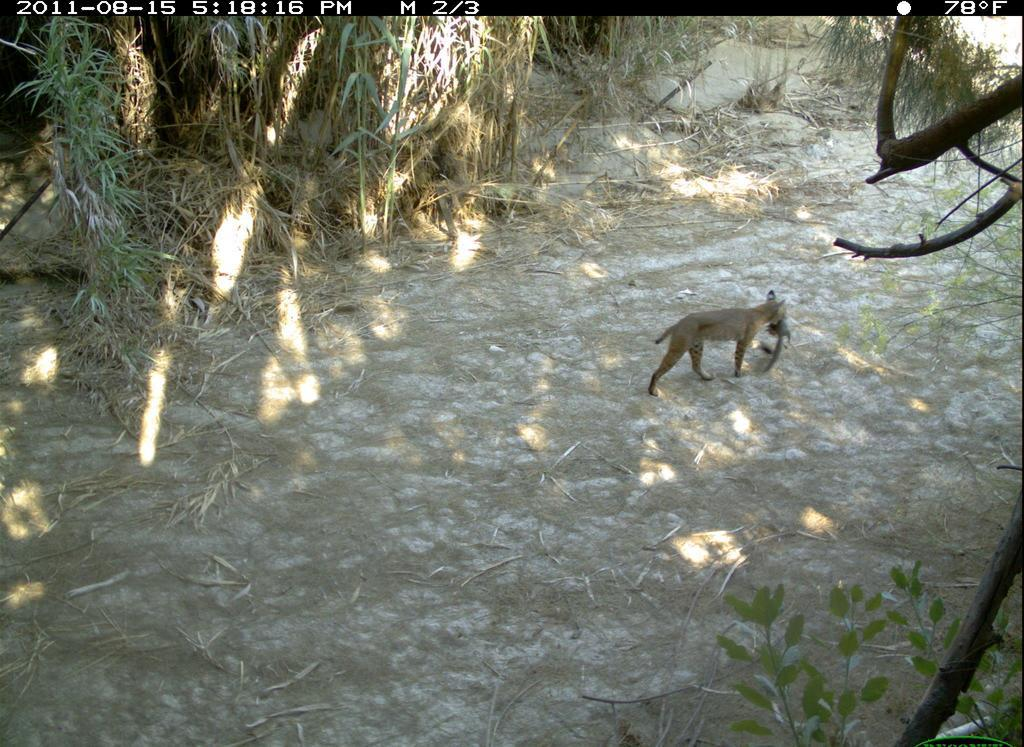bobcat: (641, 294, 811, 402)
